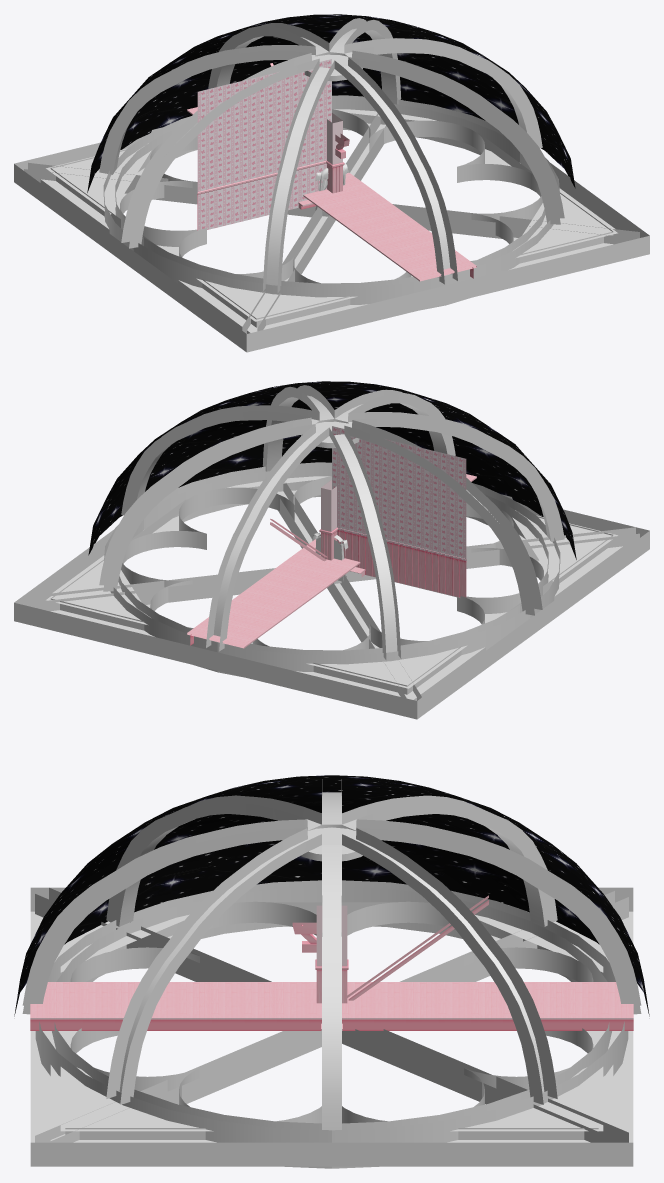
The model's file is room_base.fbx.
3 views of the same model, one above another, from view 1: azimuth 30°, elevation 25°; view 2: azimuth 150°, elevation 25°; view 3: azimuth 270°, elevation 25° (orthographic). The views are drawn at different scales.
Visible parts, largest first — view 1: roof, wall_base, Sphere001, woodplate, biggidung; view 2: roof, Sphere001, wall_base, woodplate, wall, biggidung; view 3: roof, Sphere001, woodplate, dansang, biggidung, stephandle.
Boxes of the visible parts, left/top/right/bottom form: roof: left=14, top=18, right=649, bottom=352; wall_base: left=197, top=59, right=331, bottom=230; Sphere001: left=87, top=14, right=575, bottom=192; woodplate: left=187, top=107, right=476, bottom=281; biggidung: left=326, top=113, right=344, bottom=193; roof: left=14, top=385, right=649, bottom=719; Sphere001: left=88, top=381, right=576, bottom=559; wall_base: left=332, top=426, right=466, bottom=560; woodplate: left=187, top=474, right=476, bottom=648; wall: left=337, top=527, right=466, bottom=597; biggidung: left=319, top=480, right=337, bottom=560; roof: left=22, top=779, right=641, bottom=1168; Sphere001: left=14, top=775, right=649, bottom=1016; woodplate: left=30, top=982, right=633, bottom=1019; dansang: left=30, top=1019, right=633, bottom=1030; biggidung: left=315, top=905, right=348, bottom=1003; stephandle: left=347, top=895, right=488, bottom=1000.
Size of the model in its own units: 3799 by 1503 by 3799.
